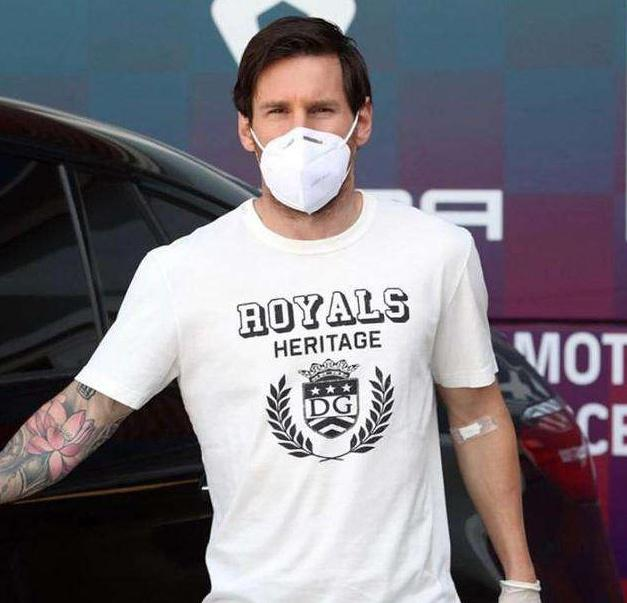OK: (253, 76, 355, 212)
